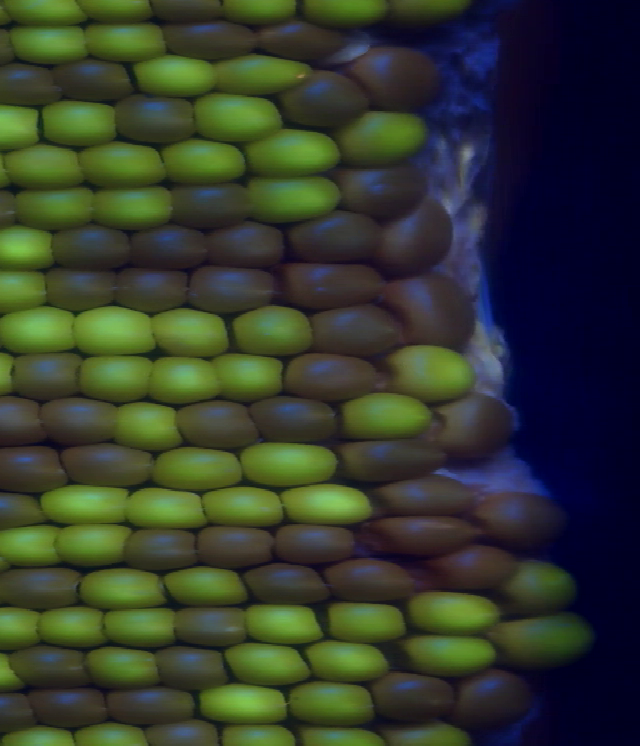fluorescent: (247, 127, 344, 177), (342, 112, 430, 167), (498, 612, 590, 664), (194, 89, 284, 142), (78, 137, 164, 190), (389, 342, 468, 399), (410, 588, 501, 637), (246, 177, 342, 222), (243, 442, 336, 487), (218, 52, 312, 96), (236, 304, 311, 358), (401, 635, 497, 677), (164, 137, 246, 186), (74, 307, 154, 356), (247, 604, 327, 651), (13, 188, 98, 232), (40, 100, 116, 149), (283, 482, 369, 525), (343, 394, 429, 437), (153, 448, 241, 490), (225, 642, 307, 687), (290, 681, 373, 725), (54, 522, 133, 568), (0, 307, 79, 353), (112, 398, 179, 452), (203, 683, 291, 724), (205, 484, 286, 527), (78, 352, 148, 401), (213, 349, 282, 398), (153, 310, 228, 355), (328, 600, 410, 641), (94, 188, 175, 229), (506, 561, 571, 612), (42, 485, 129, 523), (307, 639, 384, 681), (149, 355, 217, 402), (7, 144, 81, 187), (130, 56, 206, 97), (88, 647, 160, 689), (128, 487, 205, 526), (87, 25, 163, 62), (38, 608, 103, 650), (13, 25, 87, 61), (103, 611, 176, 647), (0, 225, 52, 272), (0, 525, 58, 566), (0, 267, 49, 310), (11, 1, 88, 26), (0, 104, 40, 150), (0, 607, 38, 650)
nonfluorescent: (391, 275, 475, 347), (378, 202, 454, 276), (359, 47, 441, 111), (478, 488, 563, 548), (282, 71, 371, 127), (188, 262, 281, 315), (334, 165, 425, 219), (311, 307, 401, 360), (283, 262, 386, 308), (376, 667, 457, 725), (432, 397, 506, 459), (338, 441, 448, 482), (60, 441, 153, 489), (173, 401, 264, 450), (289, 213, 378, 262), (369, 515, 477, 554), (285, 352, 378, 397), (381, 475, 478, 518), (113, 97, 198, 146), (48, 223, 131, 271), (433, 543, 514, 592), (458, 671, 528, 727), (9, 644, 90, 692), (256, 394, 336, 441), (328, 562, 415, 605), (194, 525, 273, 572), (248, 562, 328, 608), (44, 266, 117, 316), (270, 524, 359, 565), (210, 224, 289, 270), (168, 607, 249, 651), (40, 397, 114, 445), (131, 222, 206, 269), (168, 183, 248, 227), (259, 18, 339, 62), (171, 18, 258, 58), (0, 445, 70, 494), (58, 60, 137, 102), (31, 687, 108, 730), (0, 567, 78, 608), (108, 687, 192, 725), (117, 269, 190, 311), (124, 528, 198, 569), (13, 352, 78, 396), (0, 62, 61, 107), (158, 646, 206, 691), (0, 397, 44, 444), (0, 487, 47, 531), (0, 691, 36, 732)
